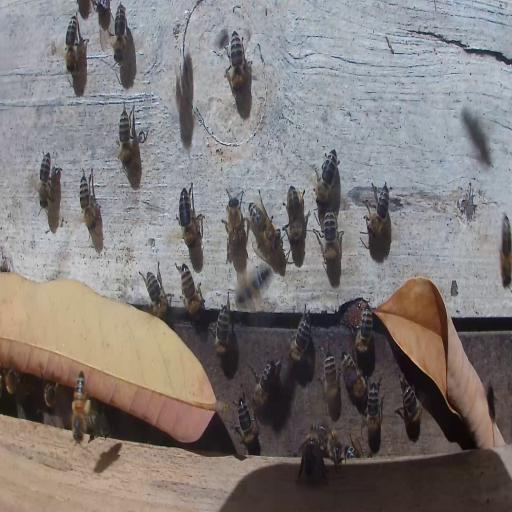bee: (248, 201, 283, 255), (233, 262, 272, 308), (176, 182, 204, 246), (222, 188, 245, 256), (287, 304, 313, 363), (309, 418, 342, 464), (177, 262, 204, 318), (71, 370, 92, 442), (365, 180, 391, 238), (142, 264, 171, 316), (312, 148, 338, 206), (397, 377, 423, 431), (285, 182, 305, 250), (250, 355, 274, 411), (78, 166, 98, 233), (209, 302, 232, 360), (321, 207, 341, 272), (237, 398, 260, 454), (354, 302, 375, 358), (340, 351, 364, 400), (299, 438, 323, 485), (117, 103, 133, 172), (228, 30, 245, 94), (500, 212, 512, 289), (112, 3, 127, 64), (367, 378, 382, 439), (324, 350, 339, 409), (38, 150, 52, 210), (65, 14, 77, 75), (85, 411, 109, 435), (6, 368, 21, 398), (44, 381, 58, 410), (345, 438, 363, 458)
